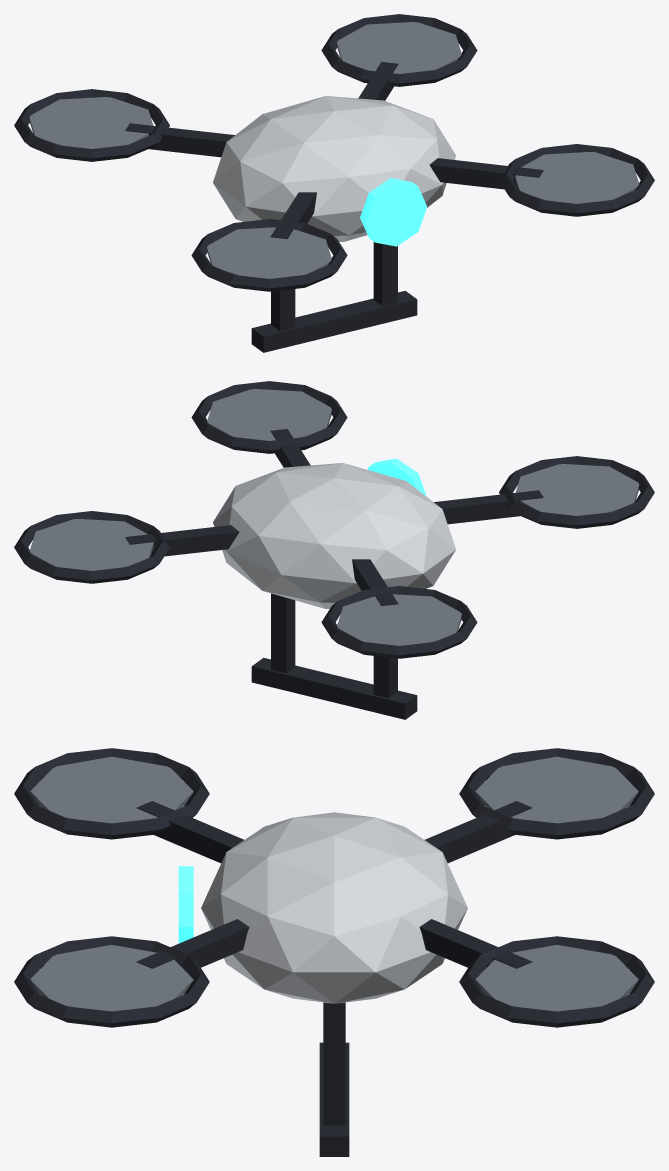
The model's file is drone.glb.
3 renders of one model, top to bottom at view 1: azimuth 30°, elevation 25°; view 2: azimuth 150°, elevation 25°; view 3: azimuth 270°, elevation 25°, orthographic. The views are drawn at different scales.
Parts seen in each view (by area): view 1: drone; view 2: drone; view 3: drone.
Part boxes in pixels (bbox=[...]): drone: bbox=[14, 14, 654, 352]; drone: bbox=[14, 381, 654, 719]; drone: bbox=[14, 748, 654, 1156].
Bounding box in the file's own units: 0.864 × 0.408 × 0.864.
